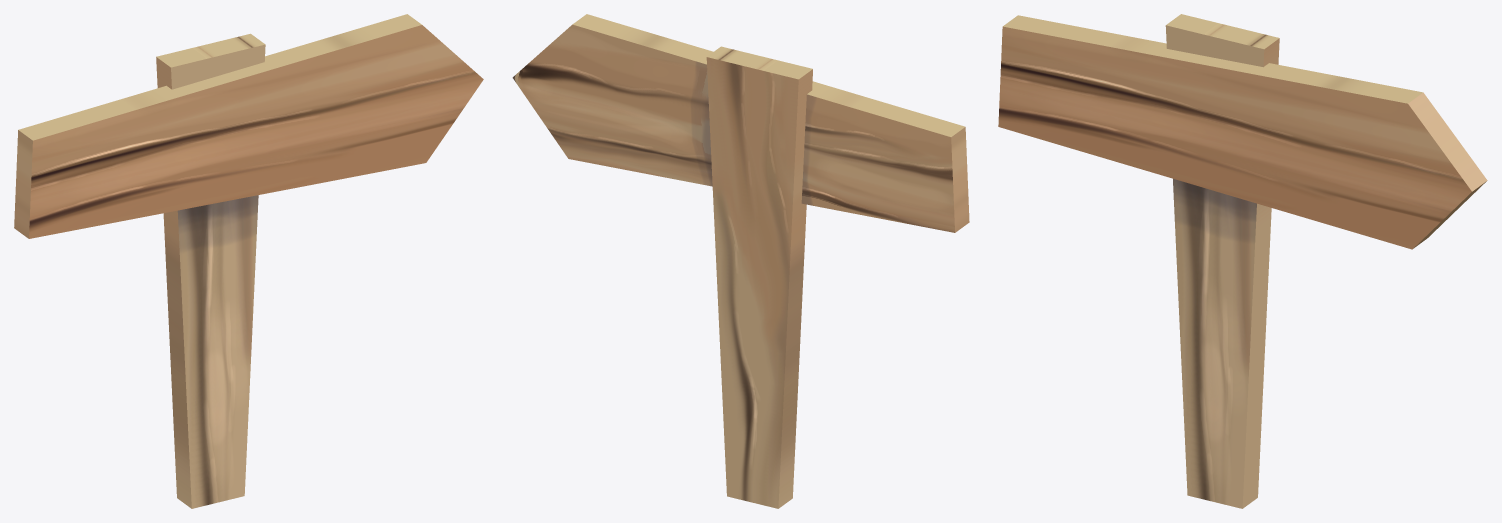
Rendered from sign_direction_1.gltf.
The picture shows the model from 3 angles, left to right: view 1: azimuth 30°, elevation 25°; view 2: azimuth 150°, elevation 25°; view 3: azimuth 330°, elevation 25°; orthographic projection. The views are drawn at different scales.
Parts seen in each view (by area): view 1: SignDirection1Mesh; view 2: SignDirection1Mesh; view 3: SignDirection1Mesh.
Boxes of the visible parts, x1,y1,x2,y2 form: SignDirection1Mesh: (14,14,483,508); SignDirection1Mesh: (512,14,969,508); SignDirection1Mesh: (998,14,1487,508).
Size of what is drawn, in the model's own units: 1.13 by 1.06 by 0.1044.
1 material, 1 textured.
